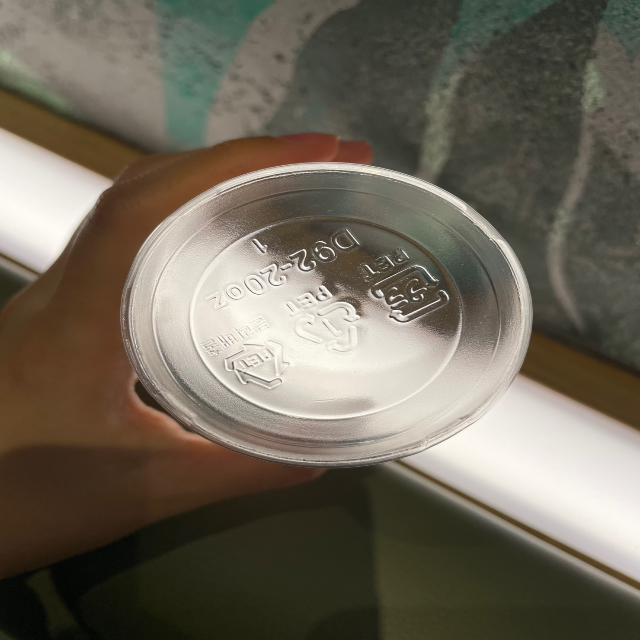pet: (360, 245, 455, 324), (201, 312, 293, 393), (282, 285, 366, 358)
